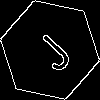J: (25, 25, 75, 75)
